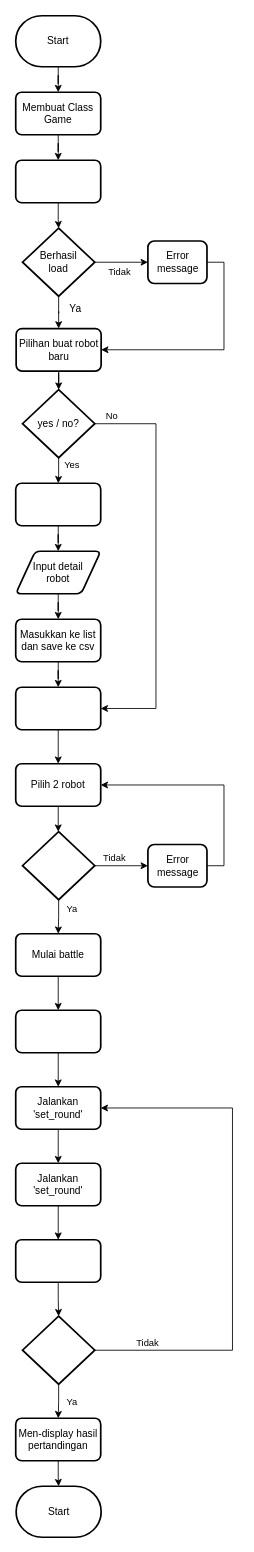
Image size: 254x1552. Some labels were removed from this diagram. The centre of each missing label's shape, as x and y in pixels:
Buat robot baru: [57,504]
Cek sisa hitpoints: [57,1260]
Display robot: [57,708]
hitpoints <= 0: [58,1350]
Load robot dari csv: [57,181]
Pilih penyerang berdasarkan speed: [57,1031]
valid?: [58,865]
